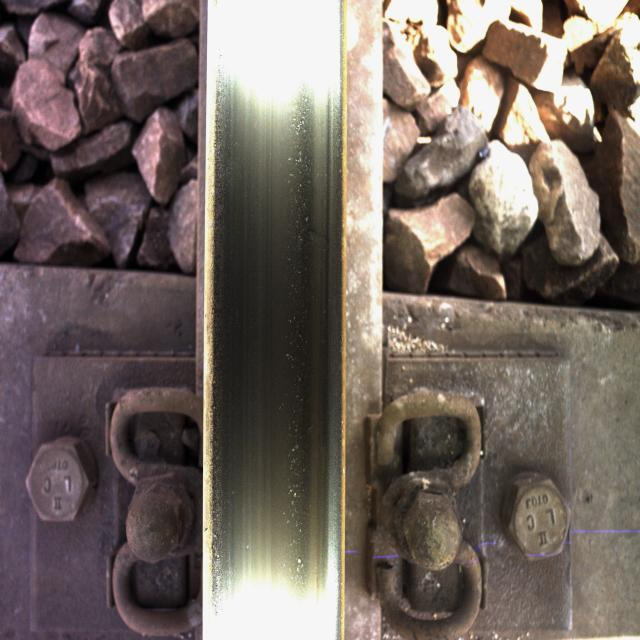break: (210, 20, 338, 590)
